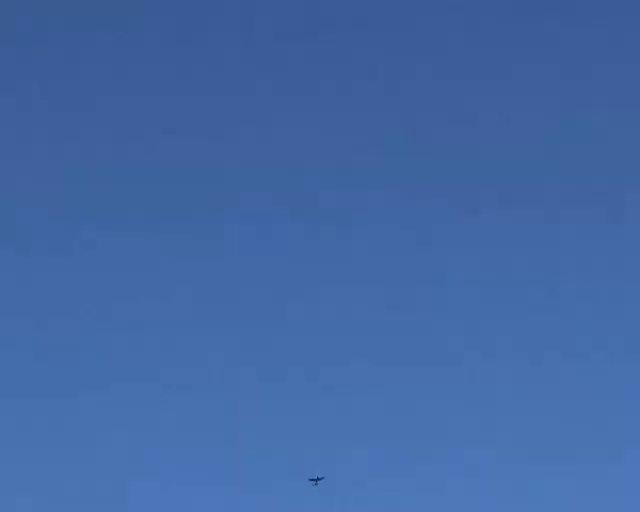AIRPLANE: (308, 475, 325, 486)
